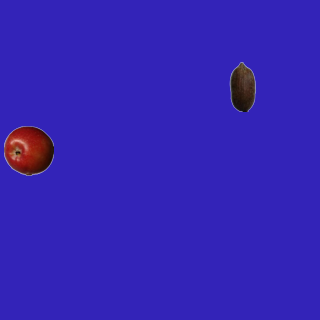Apple Braeburn: (3, 125, 53, 175)
Nut Pecan: (217, 61, 267, 111)
